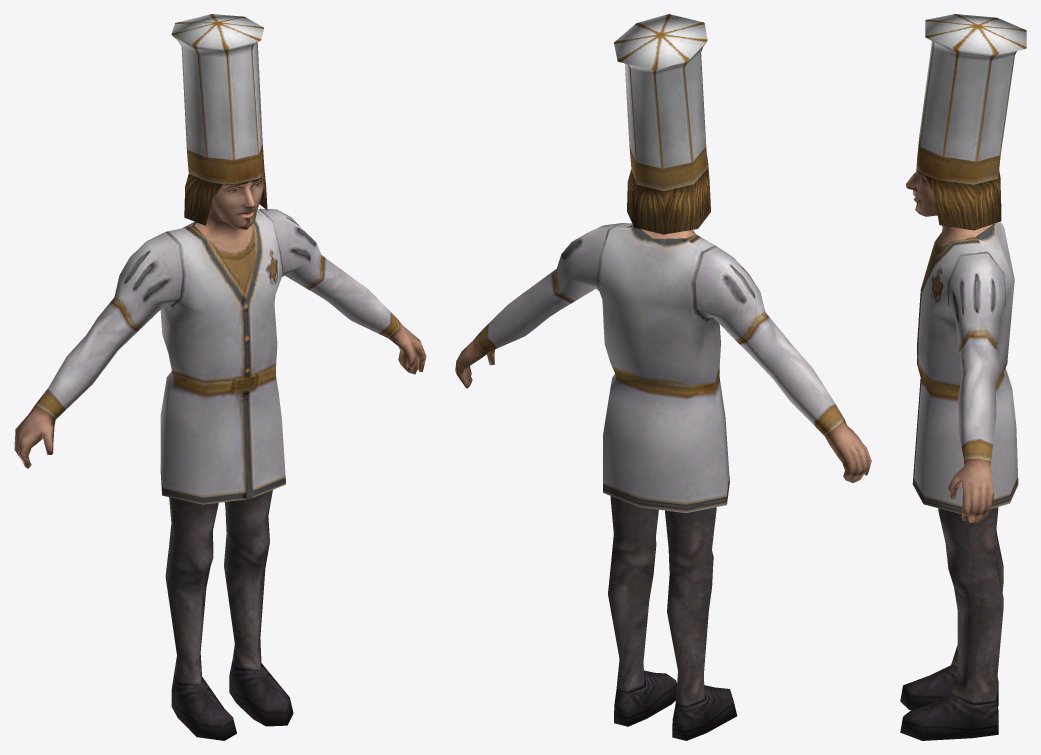
The model's file is Chef.obj.
The picture shows the model from 3 angles, left to right: view 1: azimuth 30°, elevation 25°; view 2: azimuth 150°, elevation 25°; view 3: azimuth 270°, elevation 25°; orthographic projection.
Parts seen in each view (by area): view 1: Chef; view 2: Chef; view 3: Chef.
Boxes of the visible parts, x1,y1,x2,y2 form: Chef: (14, 14, 426, 740); Chef: (455, 14, 871, 740); Chef: (900, 14, 1026, 740).
Bounding box in the file's own units: 0.7179 × 1.15 × 0.1907.
Materials: 1 (1 with a texture image).
